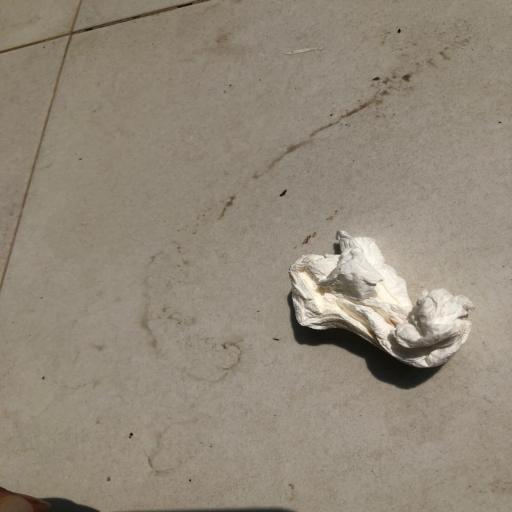waste: (269, 218, 477, 377)
